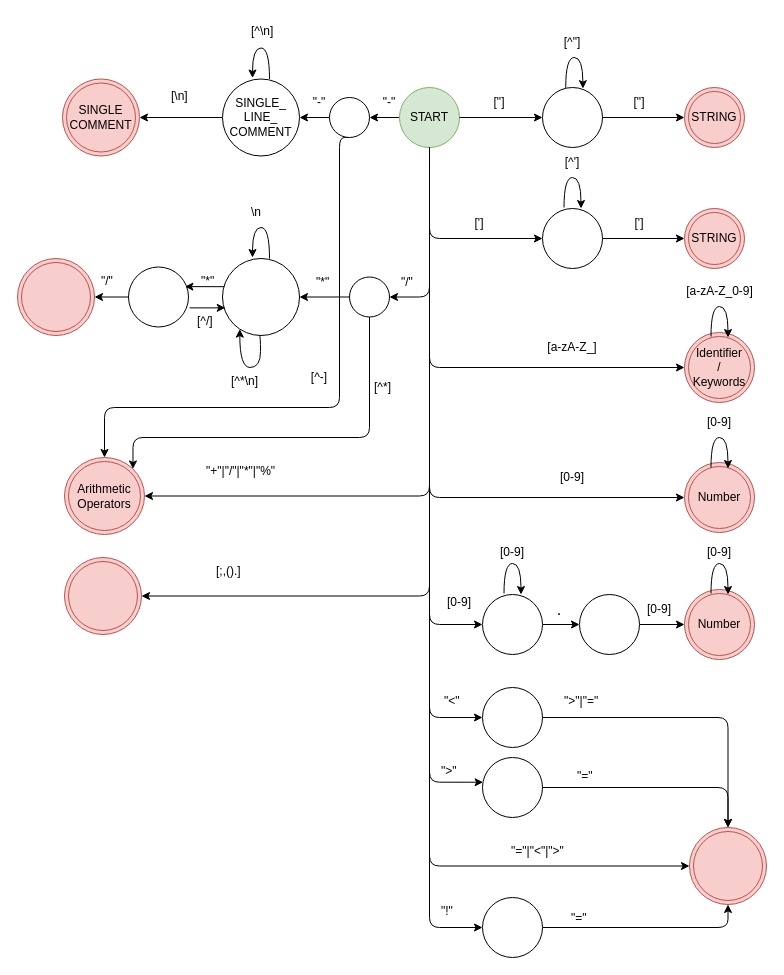
This 784x975 diagram has some shape labels left out. The shapes that lost their labels are listed below. From the top down, each one's centre as x and y in pixels, then its label:
At point (55, 297): "MULTI COMMENT".
At point (261, 297): "MULTI_ LINE_ COMMENT".
At point (103, 595): "Puncts".
At point (727, 865): "Comparison Operators".
